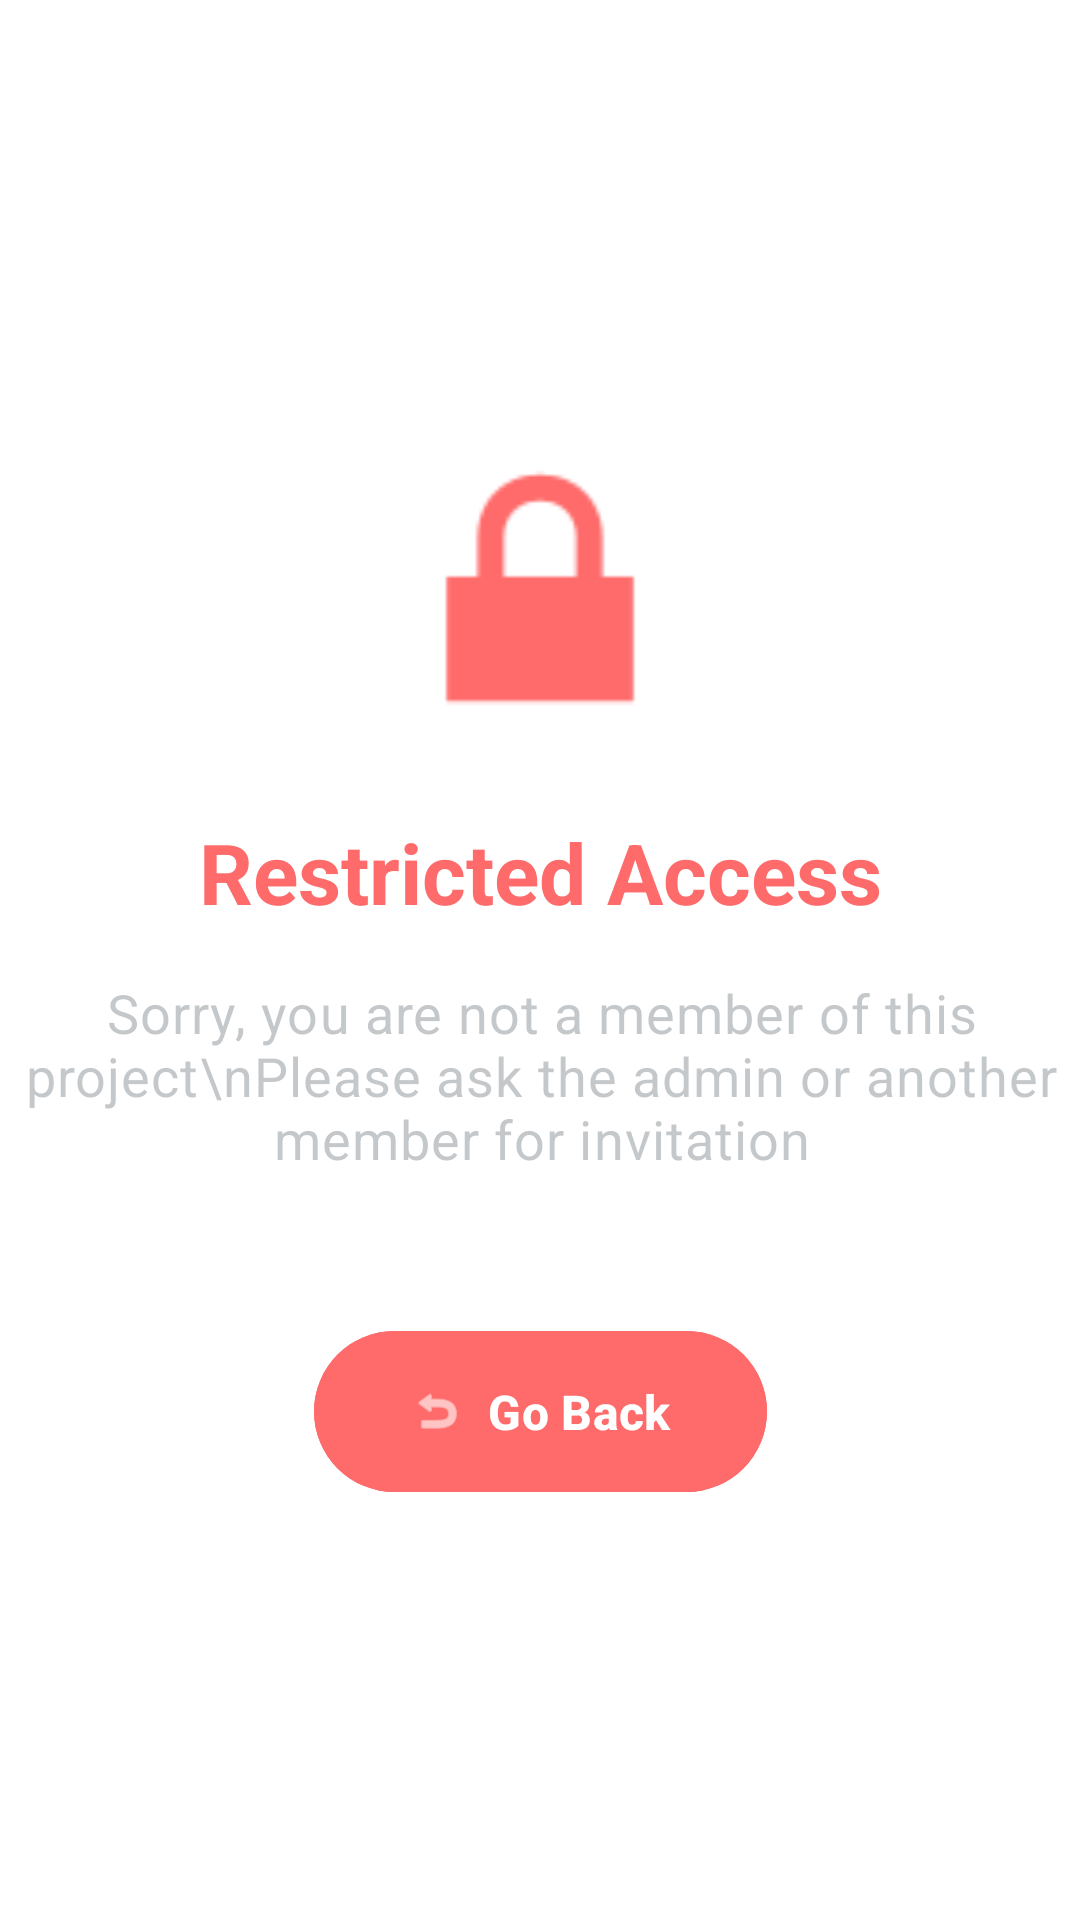

Named icons in this screenshot (1080 x 1920) and their bounding boxes, bbox=[x1, y1, x2, y2]:
lock: bbox=[445, 473, 635, 703]
